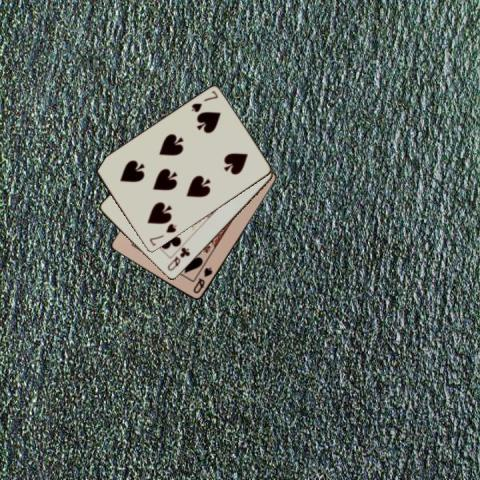7s: (147, 221, 178, 247), (188, 88, 219, 114)
Qc: (164, 244, 191, 272)
Qs: (190, 264, 214, 295)
